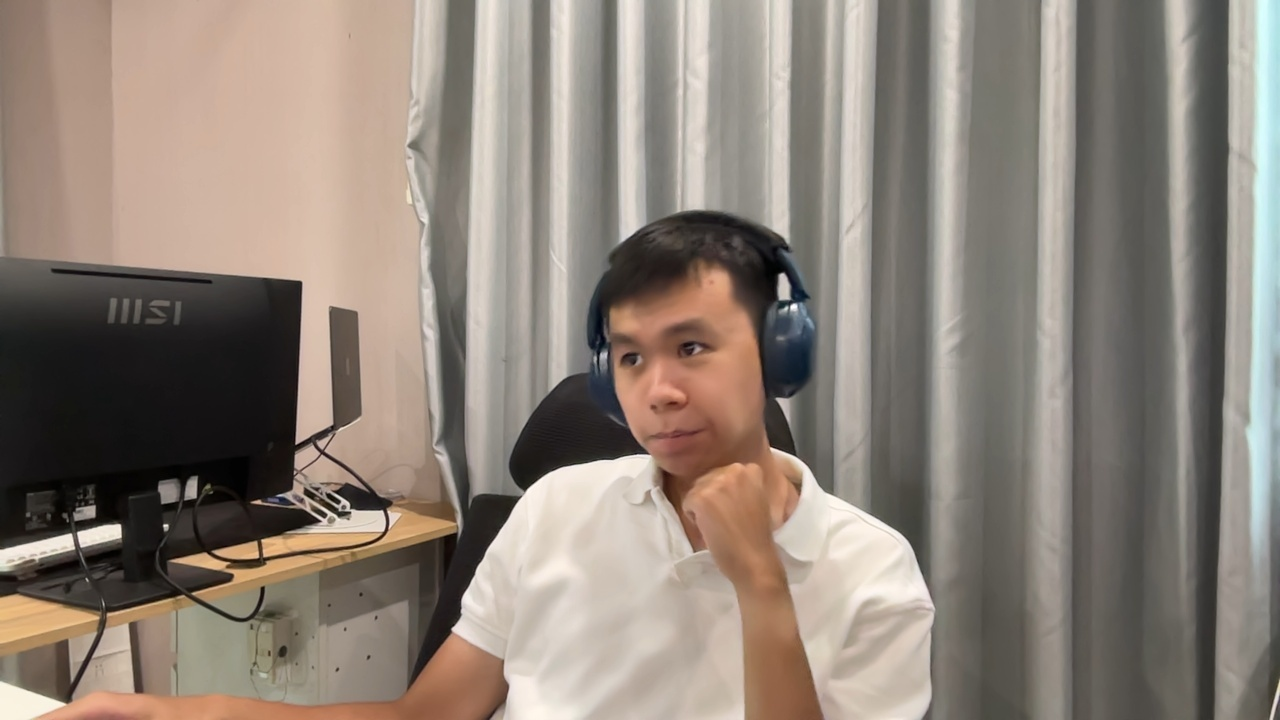over_ear: (587, 210, 819, 406), (675, 211, 820, 404)
